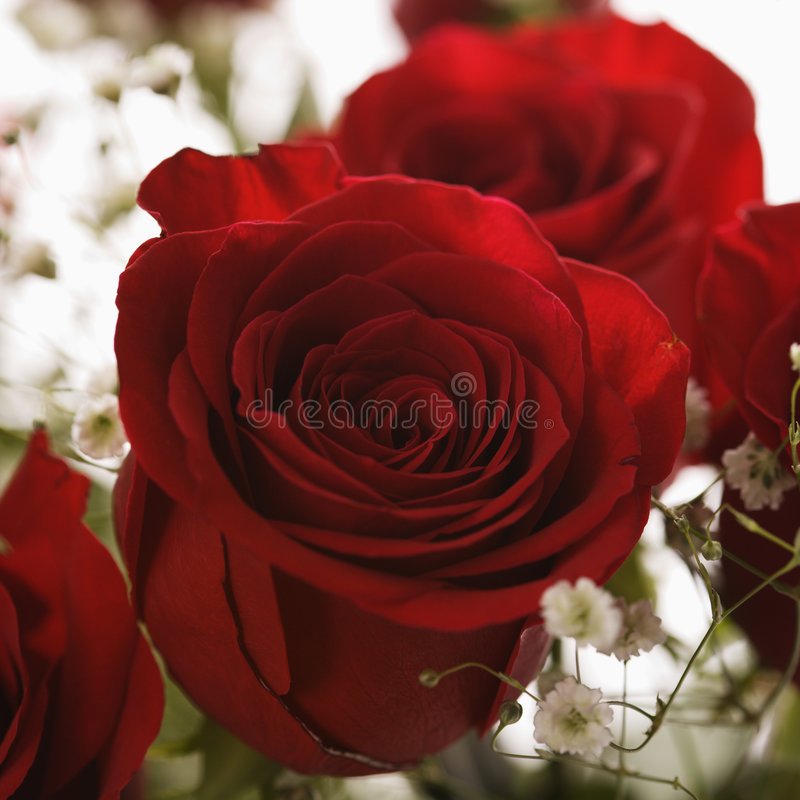RedRose: (79, 84, 706, 779), (304, 0, 773, 305), (0, 424, 170, 800)
